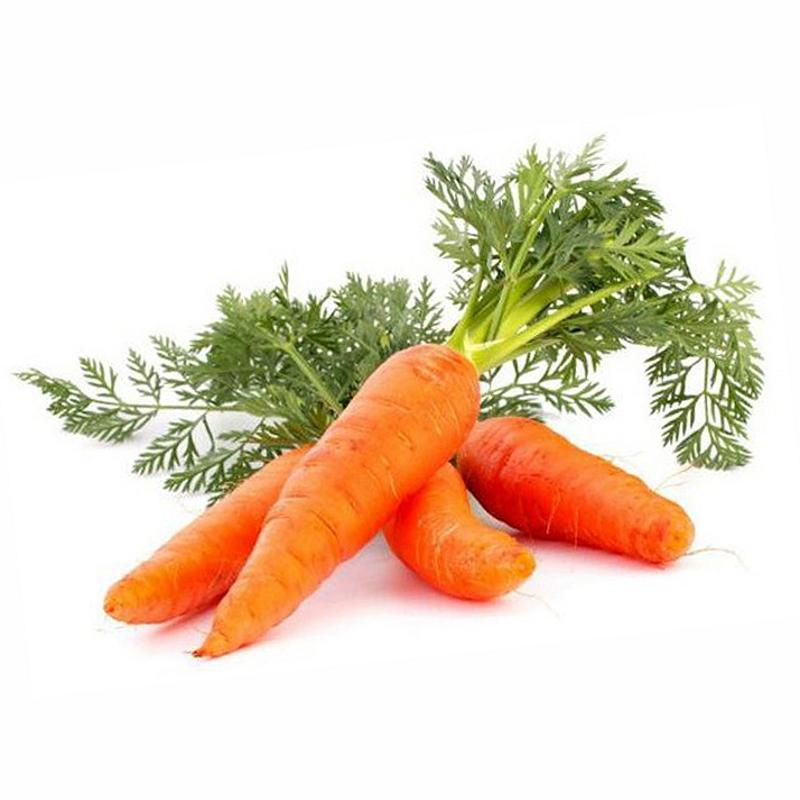carrot: (122, 358, 699, 655), (383, 393, 695, 615)
